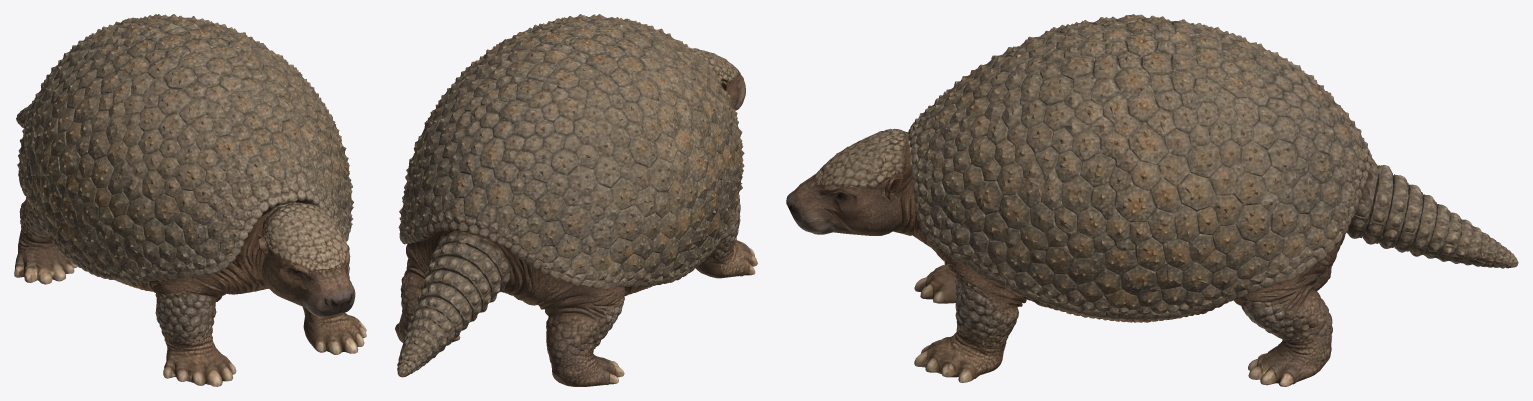
3 views of the same model, side by side, from view 1: azimuth 30°, elevation 25°; view 2: azimuth 150°, elevation 25°; view 3: azimuth 270°, elevation 25° (orthographic). The views are drawn at different scales.
Visible parts, largest first — view 1: Authored orientation; view 2: Authored orientation; view 3: Authored orientation.
Boxes of the visible parts, x1=… form: Authored orientation: x1=14, y1=14, x2=366, y2=386; Authored orientation: x1=395, y1=14, x2=757, y2=386; Authored orientation: x1=786, y1=14, x2=1518, y2=386.
Bounding box in the file's own units: 1.23 × 1.19 × 2.63.
Materials: 1 (1 with a texture image).
